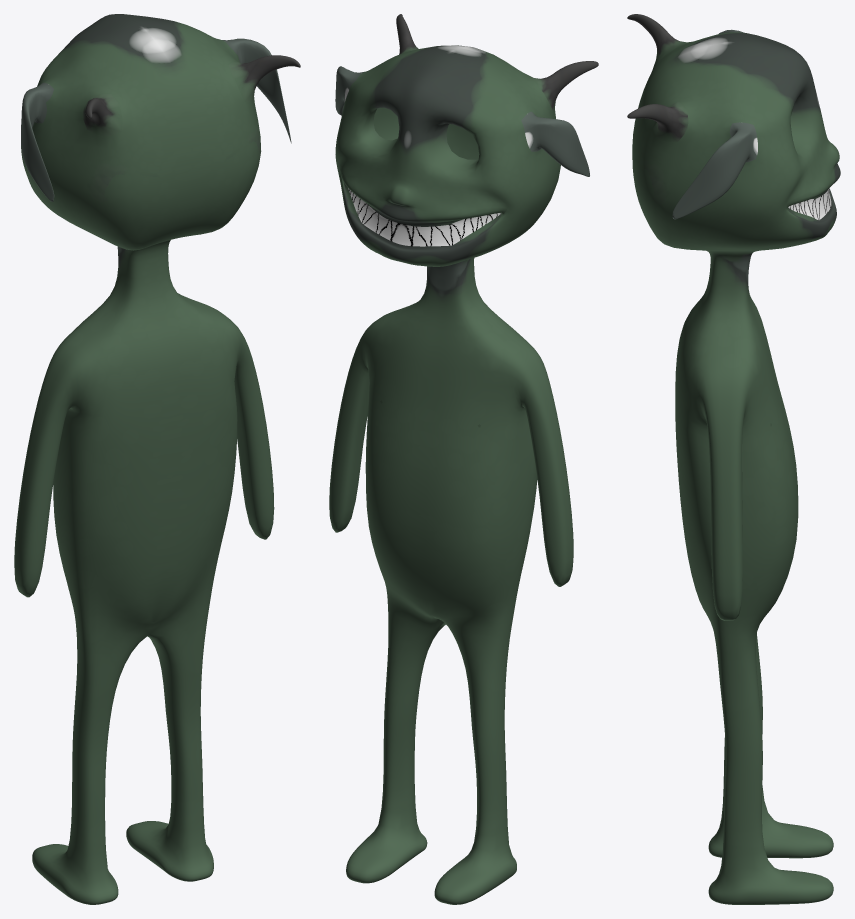
File: lwjglcharactergoblinhead.obj
3 views of the same model, side by side, from view 1: azimuth 30°, elevation 25°; view 2: azimuth 150°, elevation 25°; view 3: azimuth 270°, elevation 25° (orthographic). The views are drawn at different scales.
Parts seen in each view (by area): view 1: Cube.002; view 2: Cube.002; view 3: Cube.002.
Boxes of the visible parts, x1,y1,x2,y2 form: Cube.002: [14, 14, 300, 904]; Cube.002: [329, 14, 598, 904]; Cube.002: [627, 14, 840, 904].
Size of the model in its own units: 1.21 by 3.93 by 0.9137.
